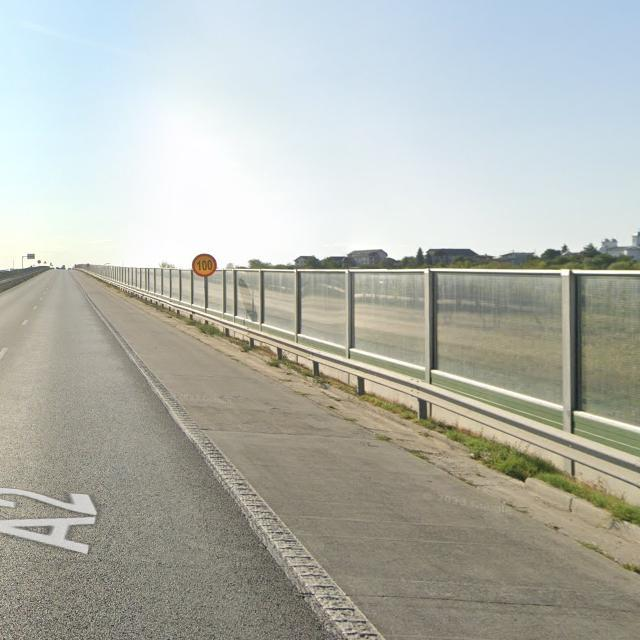forb_speed_over_100: (193, 253, 217, 277)
